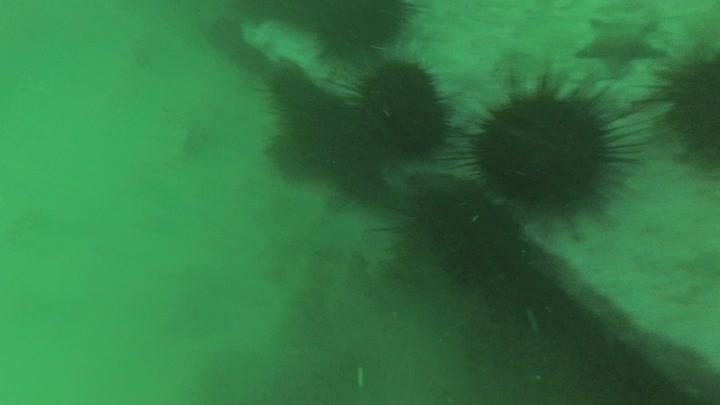echinus: (459, 74, 638, 226), (391, 180, 525, 291), (261, 64, 365, 182), (345, 54, 454, 163), (645, 40, 720, 174), (309, 1, 415, 63)
starfish: (571, 13, 669, 75)
